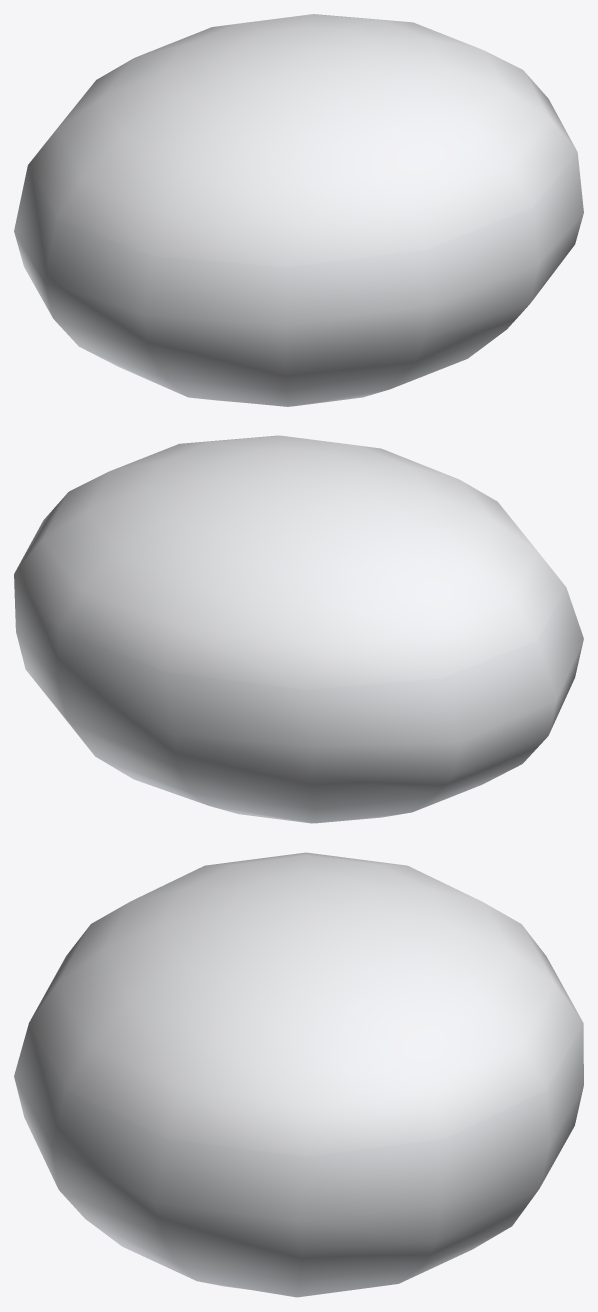
Rendered from bush-53_col.fbx.
The picture shows the model from 3 angles, top to bottom: view 1: azimuth 30°, elevation 25°; view 2: azimuth 150°, elevation 25°; view 3: azimuth 270°, elevation 25°; orthographic projection. The views are drawn at different scales.
Parts seen in each view (by area): view 1: bush-53.col; view 2: bush-53.col; view 3: bush-53.col.
Boxes of the visible parts, left/top/right/bottom form: bush-53.col: left=14, top=14, right=583, bottom=406; bush-53.col: left=14, top=435, right=583, bottom=823; bush-53.col: left=14, top=852, right=583, bottom=1297.
Size of the model in its own units: 0.2752 by 0.1619 by 0.239.
Materials: 1 (1 with a texture image).
